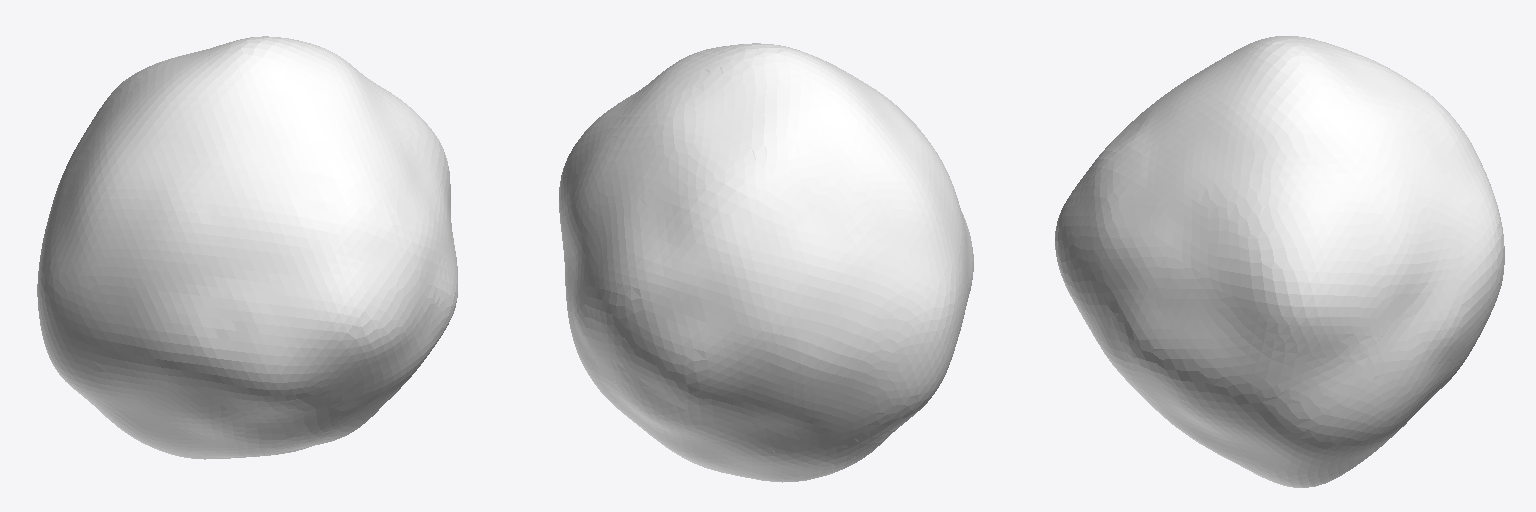
File: HaideaCrust05.obj
3 views of the same model, side by side, from view 1: azimuth 30°, elevation 25°; view 2: azimuth 150°, elevation 25°; view 3: azimuth 270°, elevation 25° (orthographic).
Size of the model in its own units: 1.88 by 1.93 by 1.89.